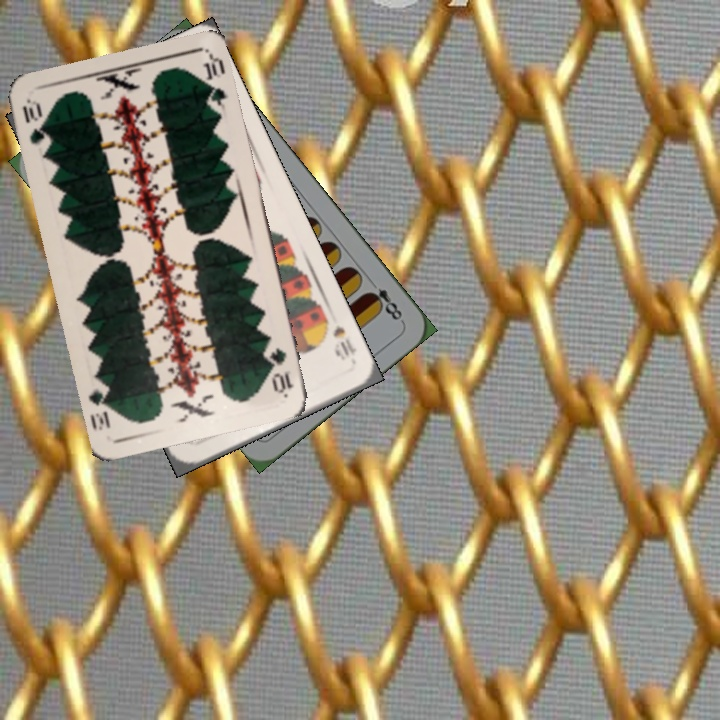E8: (363, 283, 406, 325)
G10: (265, 343, 296, 396), (18, 96, 50, 147)
S10: (318, 312, 359, 363)
